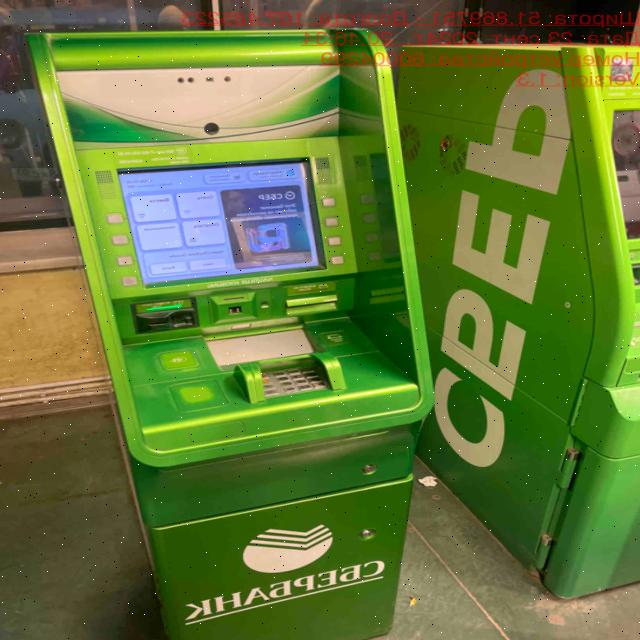bank: (18, 33, 416, 640), (358, 41, 640, 598)
